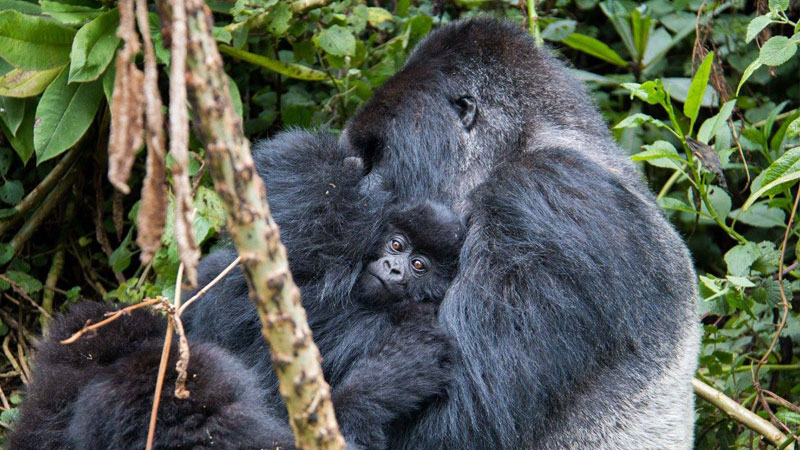Goriila: (252, 177, 484, 409)
